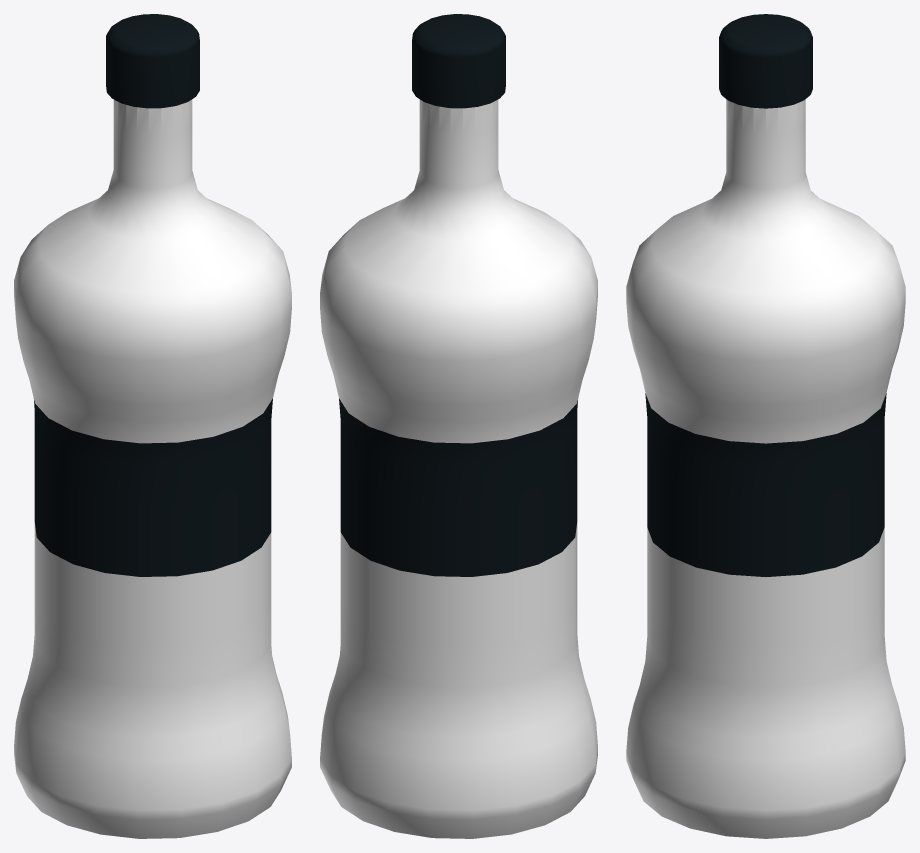
File: 04_VODKA.fbx
3 views of the same model, side by side, from view 1: azimuth 30°, elevation 25°; view 2: azimuth 150°, elevation 25°; view 3: azimuth 270°, elevation 25° (orthographic).
Parts seen in each view (by area): view 1: SAKE; view 2: SAKE; view 3: SAKE.
Boxes of the visible parts, bbox=[...] form: SAKE: bbox=[14, 14, 291, 838]; SAKE: bbox=[320, 14, 597, 838]; SAKE: bbox=[626, 14, 905, 838].
Size of the model in its own units: 18.71 by 57.04 by 18.71.
